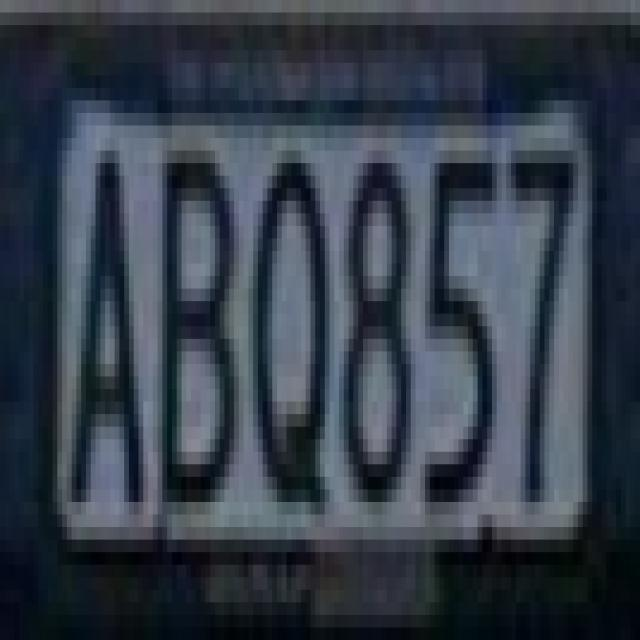licenseplate: (41, 54, 601, 596)
